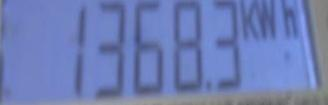.: (239, 1, 304, 41)
0: (205, 80, 213, 91)
2: (73, 3, 90, 100)
4: (92, 3, 127, 99), (207, 0, 244, 88)
7: (133, 1, 167, 94)
9: (171, 0, 202, 91)
